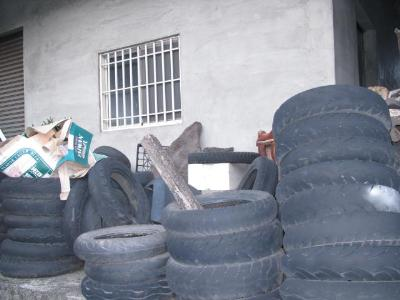box: (2, 120, 94, 174)
tire: (274, 112, 395, 163), (271, 84, 393, 132), (278, 183, 400, 225), (164, 257, 286, 299), (163, 189, 277, 231), (87, 155, 153, 226), (284, 210, 400, 250), (164, 226, 286, 263), (275, 161, 400, 194), (278, 133, 396, 167), (279, 247, 400, 280), (73, 225, 170, 259), (81, 251, 176, 283), (279, 276, 400, 300), (79, 273, 173, 299), (1, 173, 73, 201), (1, 255, 82, 277), (1, 194, 68, 218), (1, 238, 70, 260), (3, 225, 66, 245), (187, 149, 259, 165), (2, 212, 65, 229)
